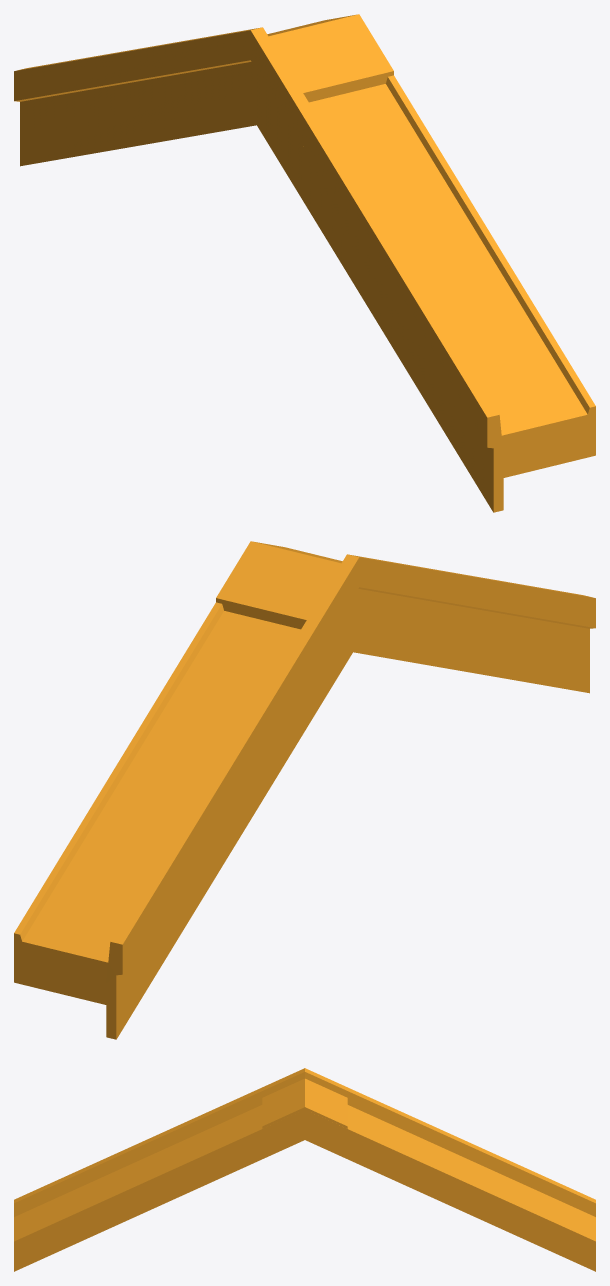
The model's file is SM_Roof_Metal_Moderate_2m_Front_Center.fbx.
The picture shows the model from 3 angles, top to bottom: view 1: azimuth 30°, elevation 25°; view 2: azimuth 150°, elevation 25°; view 3: azimuth 270°, elevation 25°; orthographic projection. The views are drawn at different scales.
Parts seen in each view (by area): view 1: roof-metal-moderate-2m-front-center; view 2: roof-metal-moderate-2m-front-center; view 3: roof-metal-moderate-2m-front-center.
Part boxes in pixels (box(x1,y1,x2,y2)): roof-metal-moderate-2m-front-center: box(14, 14, 595, 512); roof-metal-moderate-2m-front-center: box(14, 541, 595, 1039); roof-metal-moderate-2m-front-center: box(14, 1068, 595, 1271).
Bounding box in the file's own units: 0.53 × 1.45 × 4.
